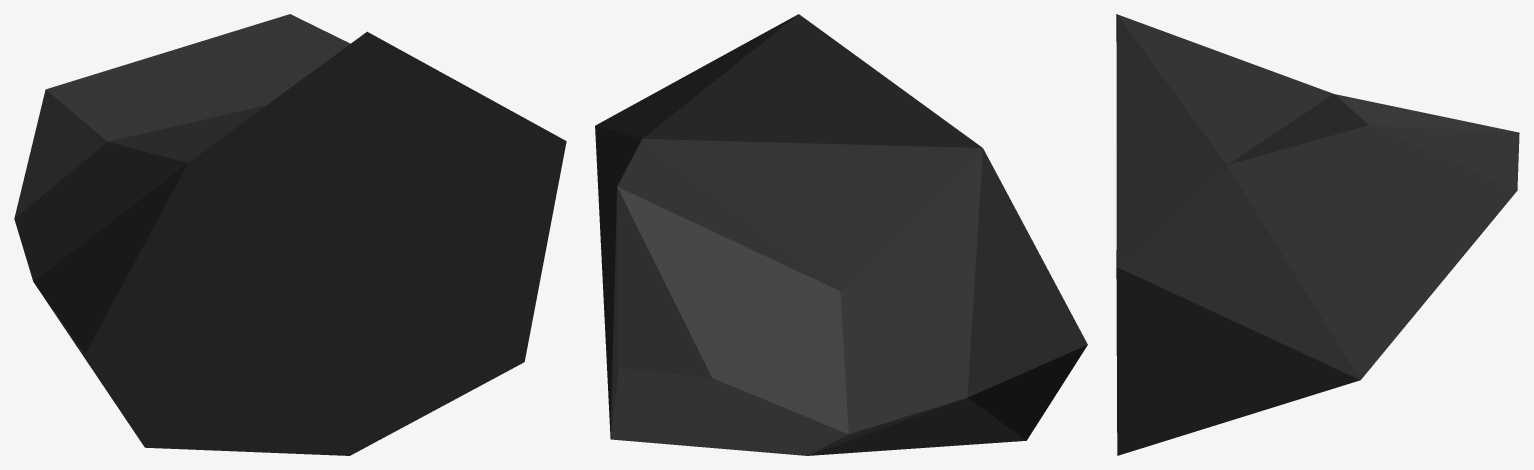
File: rock_4.fbx
3 views of the same model, side by side, from view 1: azimuth 30°, elevation 25°; view 2: azimuth 150°, elevation 25°; view 3: azimuth 270°, elevation 25° (orthographic). The views are drawn at different scales.
Visible parts, largest first — view 1: rock_4; view 2: rock_4; view 3: rock_4.
Part boxes in pixels (x1=…): rock_4: x1=14, y1=14, x2=566, y2=455; rock_4: x1=595, y1=14, x2=1087, y2=455; rock_4: x1=1116, y1=14, x2=1519, y2=455.
Bounding box in the file's own units: 51.43 × 43.37 × 37.66.
